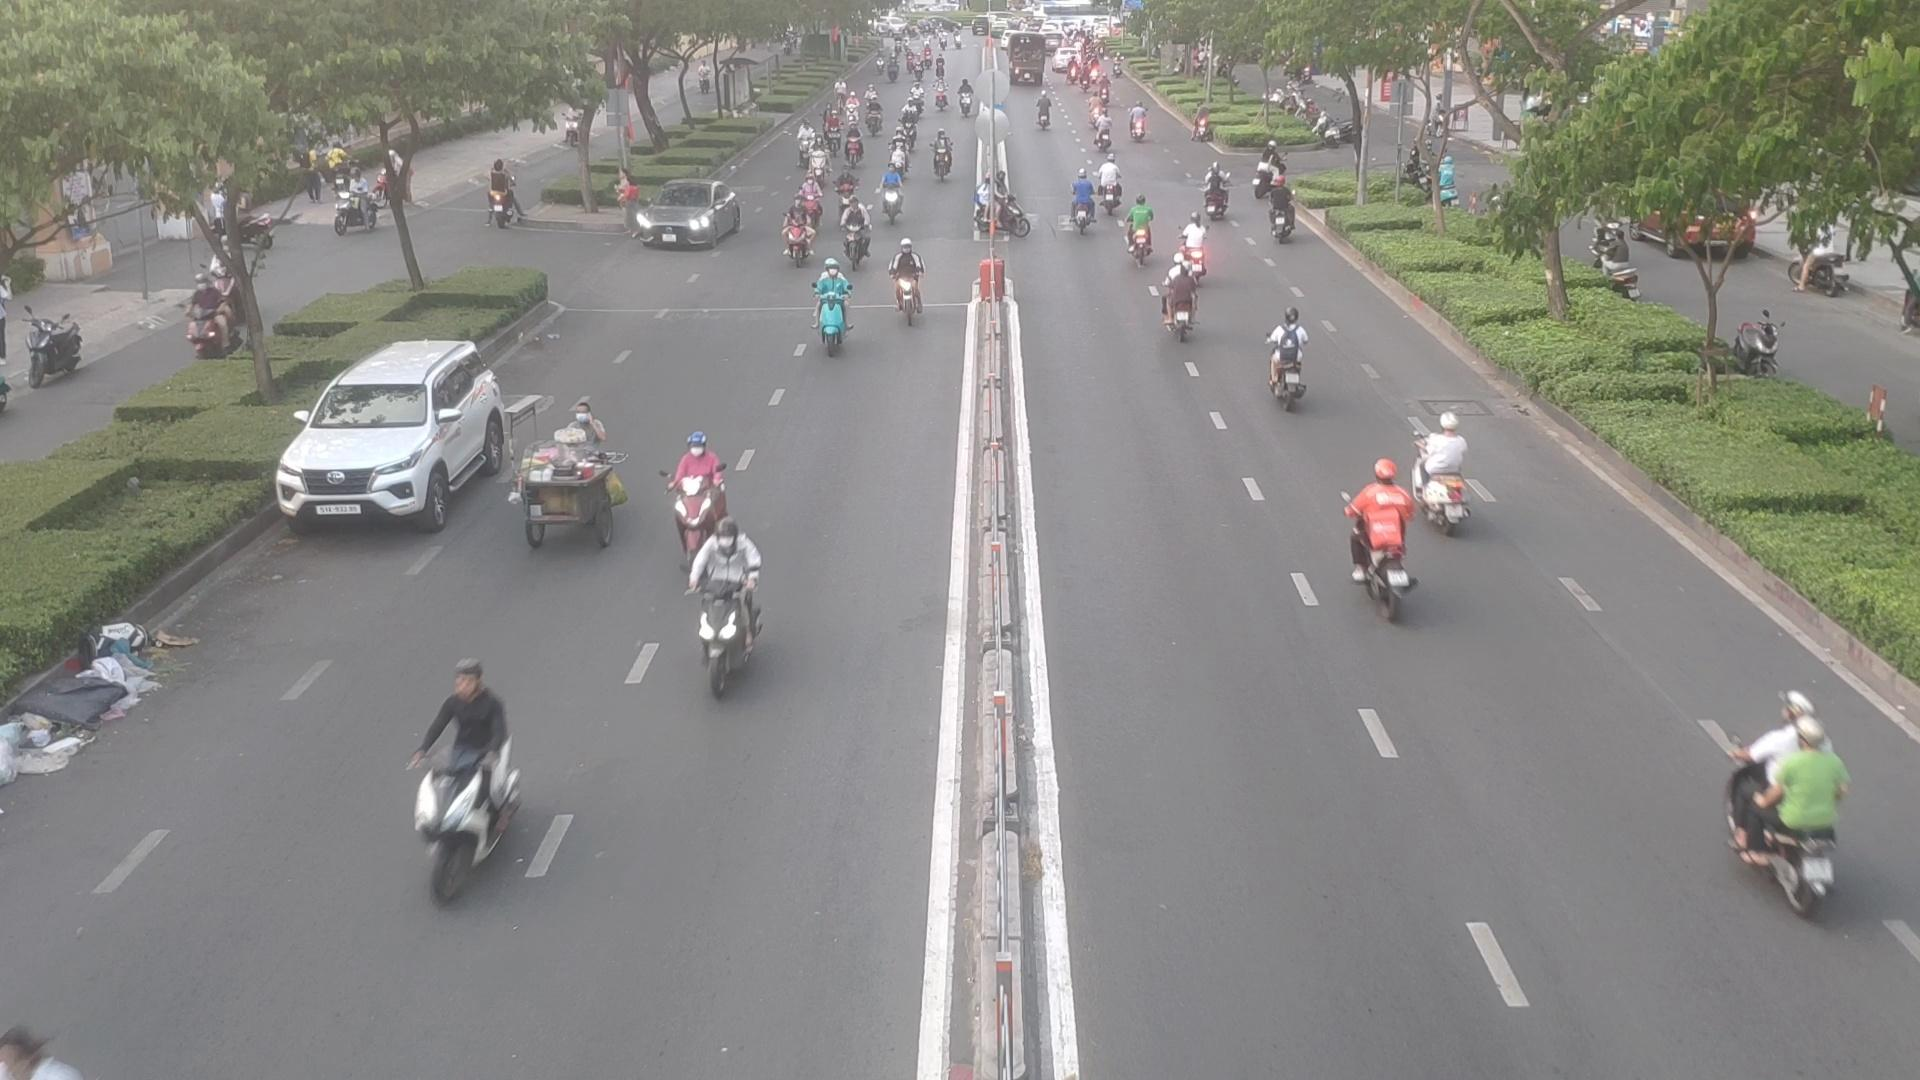car: (272, 344, 531, 531), (628, 189, 756, 252)
motorbike: (1713, 698, 1867, 910), (396, 696, 527, 913), (687, 520, 771, 709), (1335, 469, 1422, 620), (661, 435, 736, 556), (1408, 425, 1490, 534), (1258, 319, 1317, 411), (804, 276, 858, 356), (881, 253, 928, 336), (1158, 273, 1201, 342), (1062, 175, 1106, 236), (1172, 225, 1215, 287), (1125, 202, 1164, 268), (781, 208, 820, 269), (837, 210, 876, 265), (1193, 173, 1233, 222), (872, 174, 905, 222), (1269, 200, 1302, 247), (931, 142, 957, 185), (1034, 102, 1058, 132)
